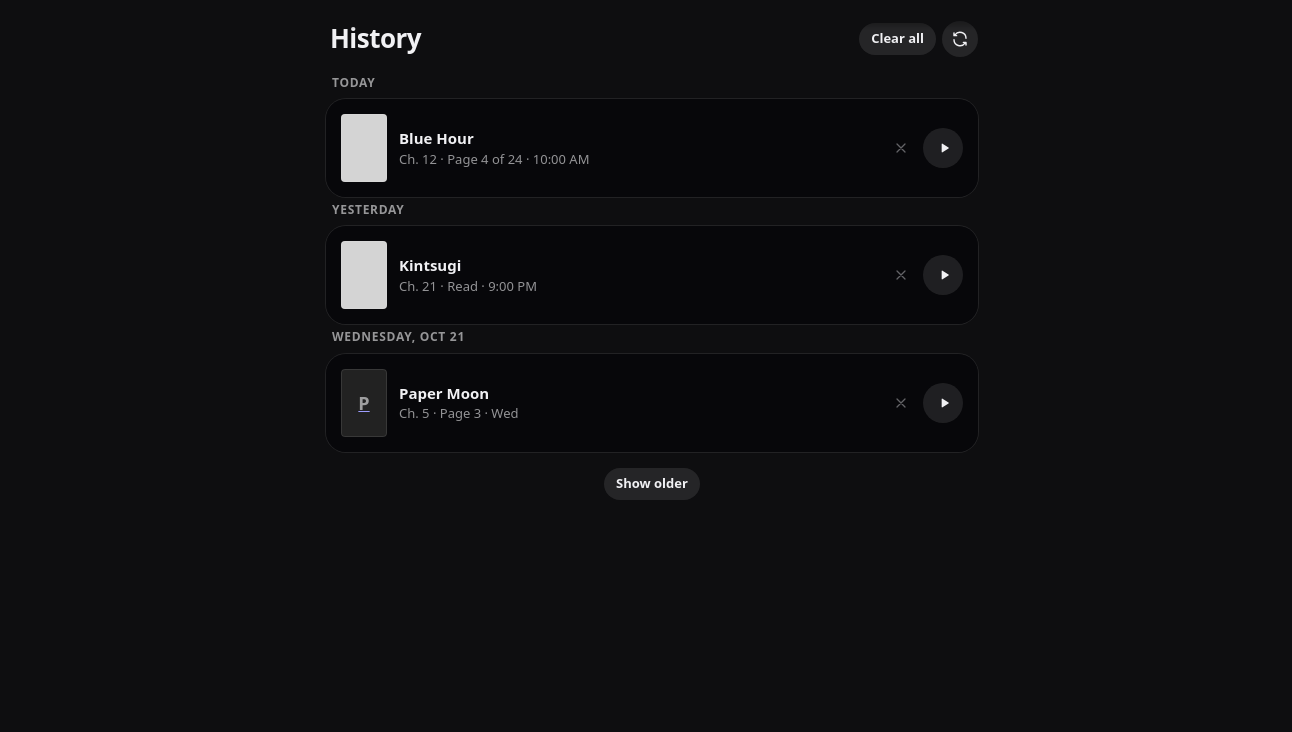
Test case: resumes an unfinished chapter where it was left
What coordinates should you click on to do the following:
click the button named "Resume Blue Hour"
I would click on:
 (943, 148)
Its box is left=923, top=128, right=963, bottom=168.
(page scrolled)
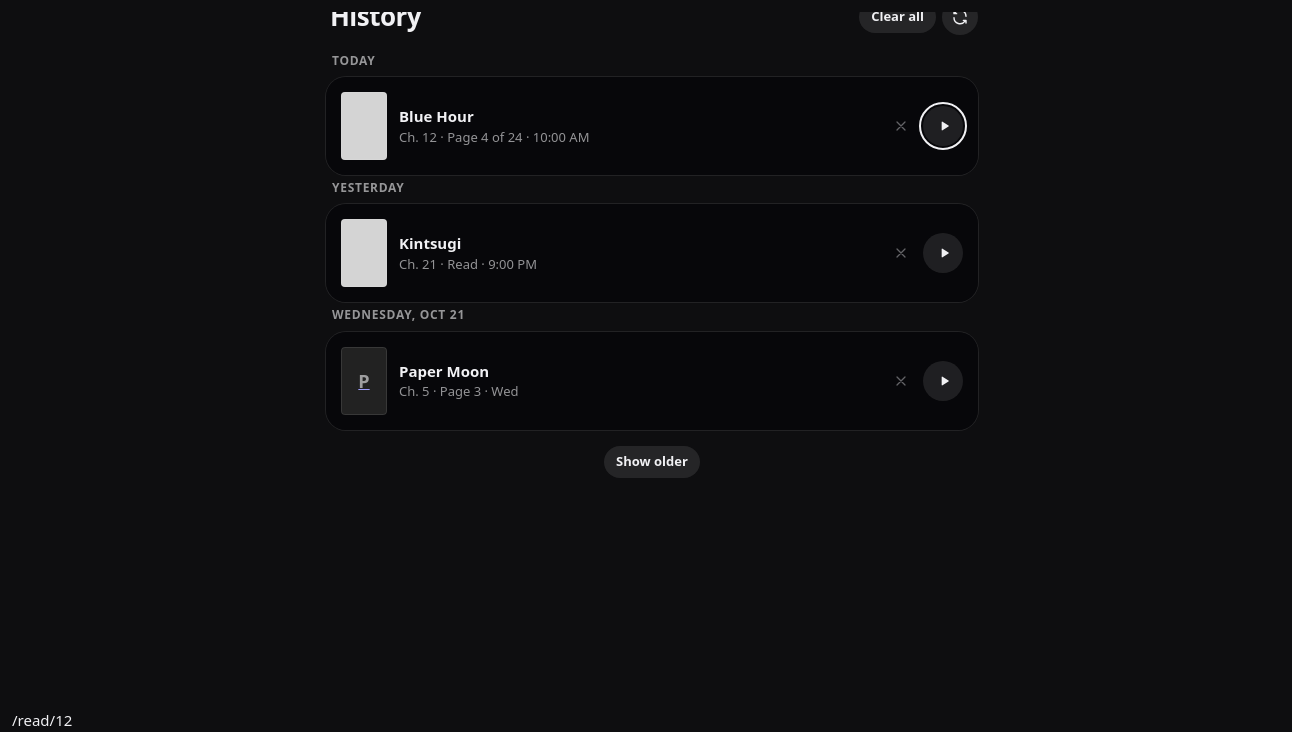
Check: the text with test id "location" reads "/read/12", box left=12, top=710, right=72, bottom=730
